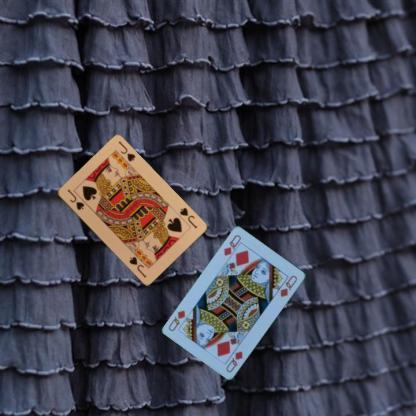Js: (64, 186, 86, 212), (177, 205, 198, 230)
Qd: (220, 232, 242, 262), (223, 348, 244, 374)
